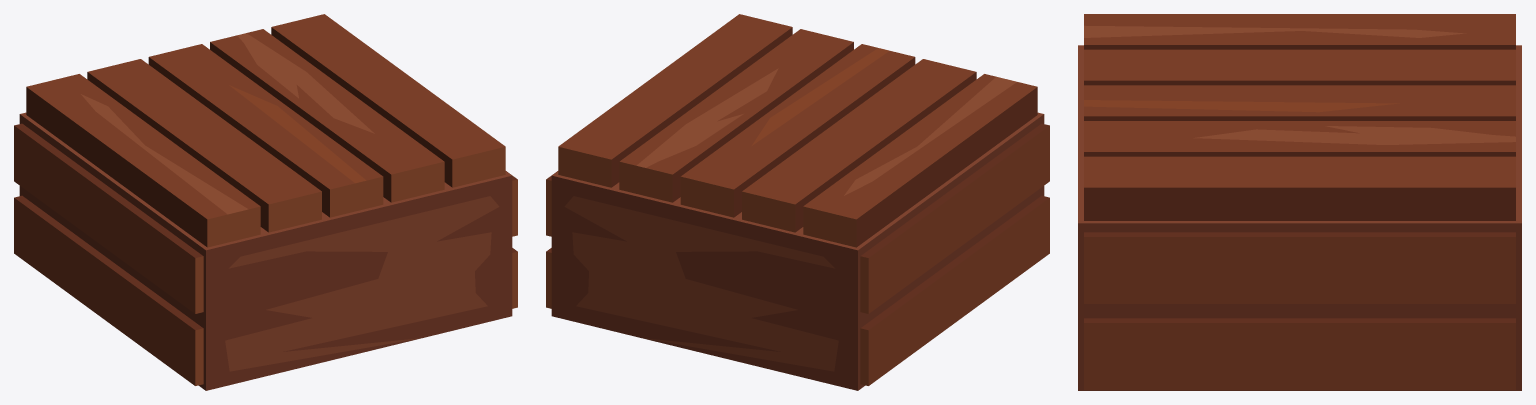
File: WoodenPallet_Small_1.fbx
3 views of the same model, side by side, from view 1: azimuth 30°, elevation 25°; view 2: azimuth 150°, elevation 25°; view 3: azimuth 270°, elevation 25° (orthographic). The views are drawn at different scales.
Parts seen in each view (by area): view 1: Cube.059; view 2: Cube.059; view 3: Cube.059.
Part boxes in pixels (left/top/right/bottom): Cube.059: left=14, top=14, right=517, bottom=390; Cube.059: left=546, top=14, right=1049, bottom=390; Cube.059: left=1078, top=14, right=1521, bottom=390.
Size of the model in its own units: 100 by 50 by 100.
